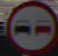No overtake: (8, 3, 53, 44)
